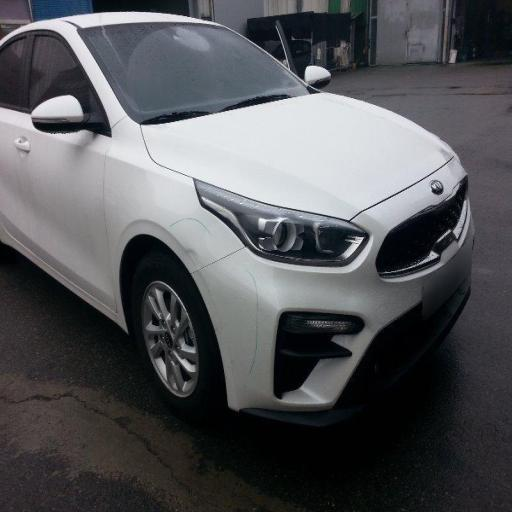scratch: (213, 266, 296, 404), (154, 194, 226, 259)
